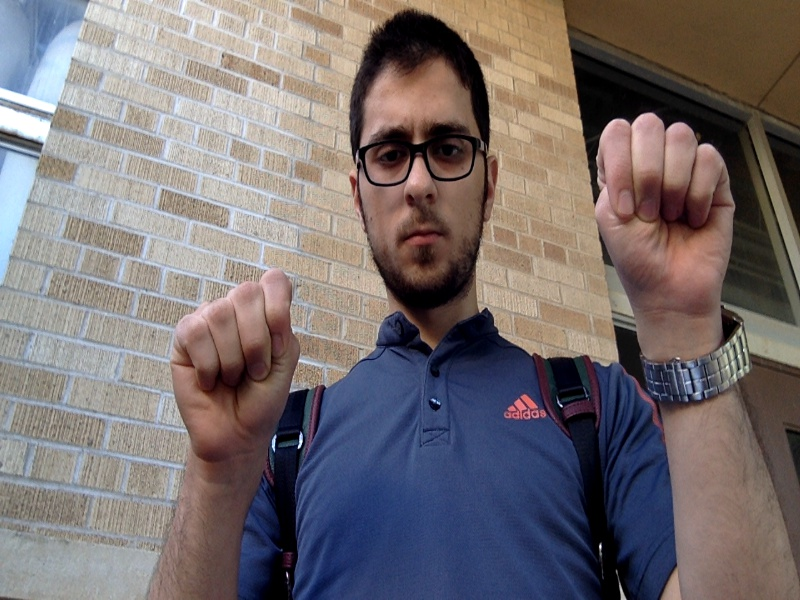0-hand: (594, 112, 736, 314), (171, 270, 300, 470)
